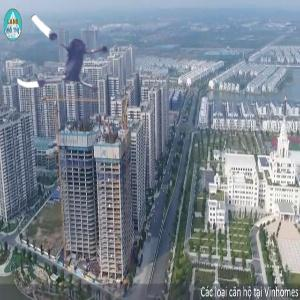drone: (10, 1, 123, 114)
